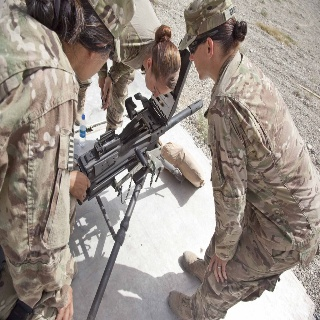rifle: (76, 90, 204, 203)
